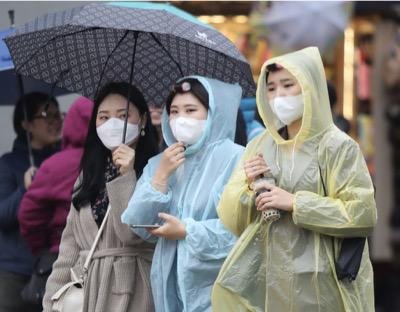with_mask: (264, 74, 304, 127), (95, 105, 141, 151), (166, 100, 207, 146)
without_mask: (33, 106, 66, 144)
